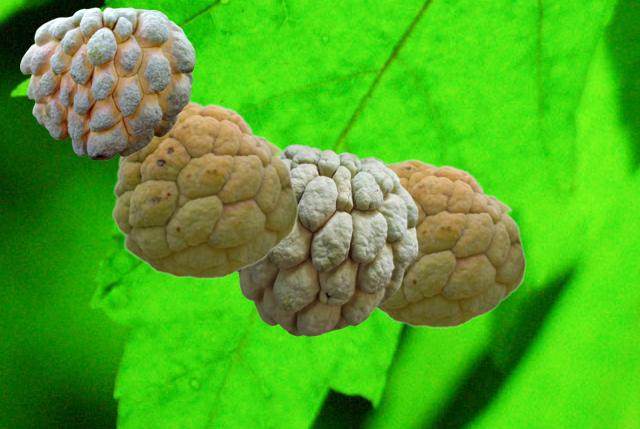atis: (238, 144, 417, 335), (111, 100, 297, 278), (20, 7, 194, 159), (376, 158, 525, 327)
